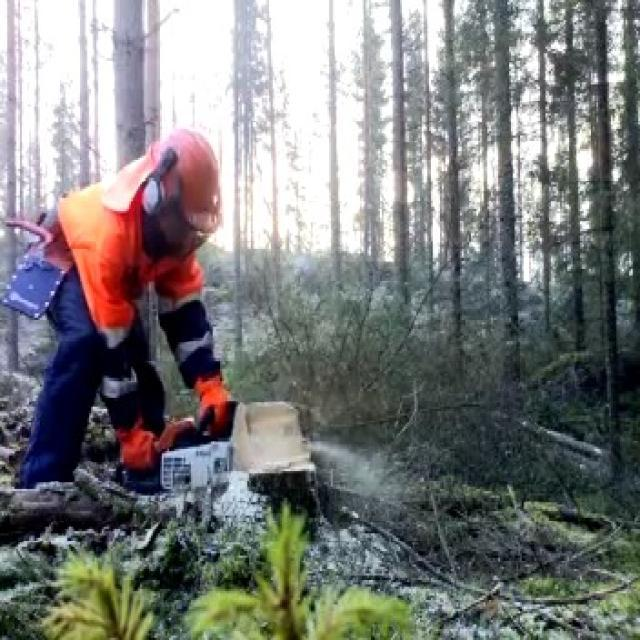Chainsaw: (118, 392, 344, 514)
